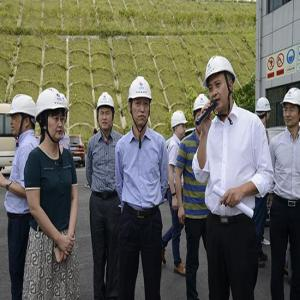white: (205, 55, 237, 115), (35, 85, 65, 147), (126, 75, 154, 130), (9, 94, 38, 140), (95, 90, 117, 134), (281, 87, 300, 131), (192, 94, 210, 134), (170, 108, 187, 141), (256, 96, 272, 125)
